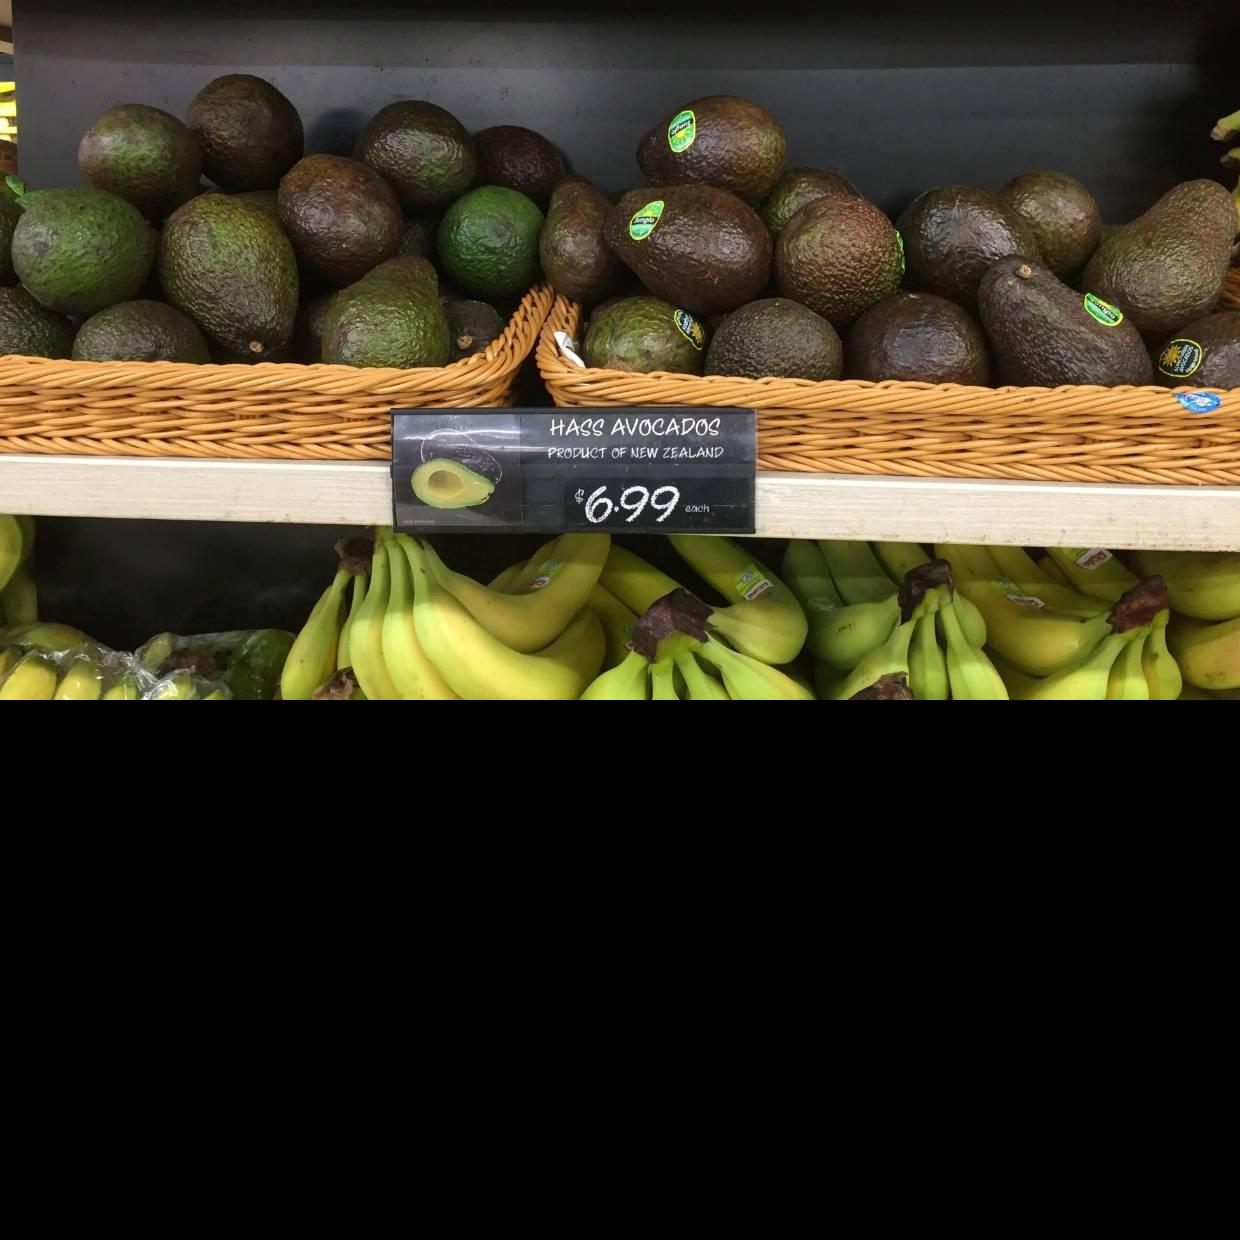almost: (159, 193, 299, 357), (773, 194, 903, 322), (636, 95, 786, 201), (321, 253, 449, 367), (351, 101, 476, 215), (78, 104, 200, 217), (538, 175, 618, 301), (583, 298, 707, 375)
ripe: (1082, 179, 1239, 332), (977, 255, 1153, 386), (604, 183, 772, 315), (276, 153, 403, 287), (894, 185, 1042, 299), (844, 292, 989, 386), (186, 74, 304, 188), (997, 170, 1103, 274), (709, 298, 844, 378)
unripe: (11, 187, 156, 313), (437, 184, 545, 299)
